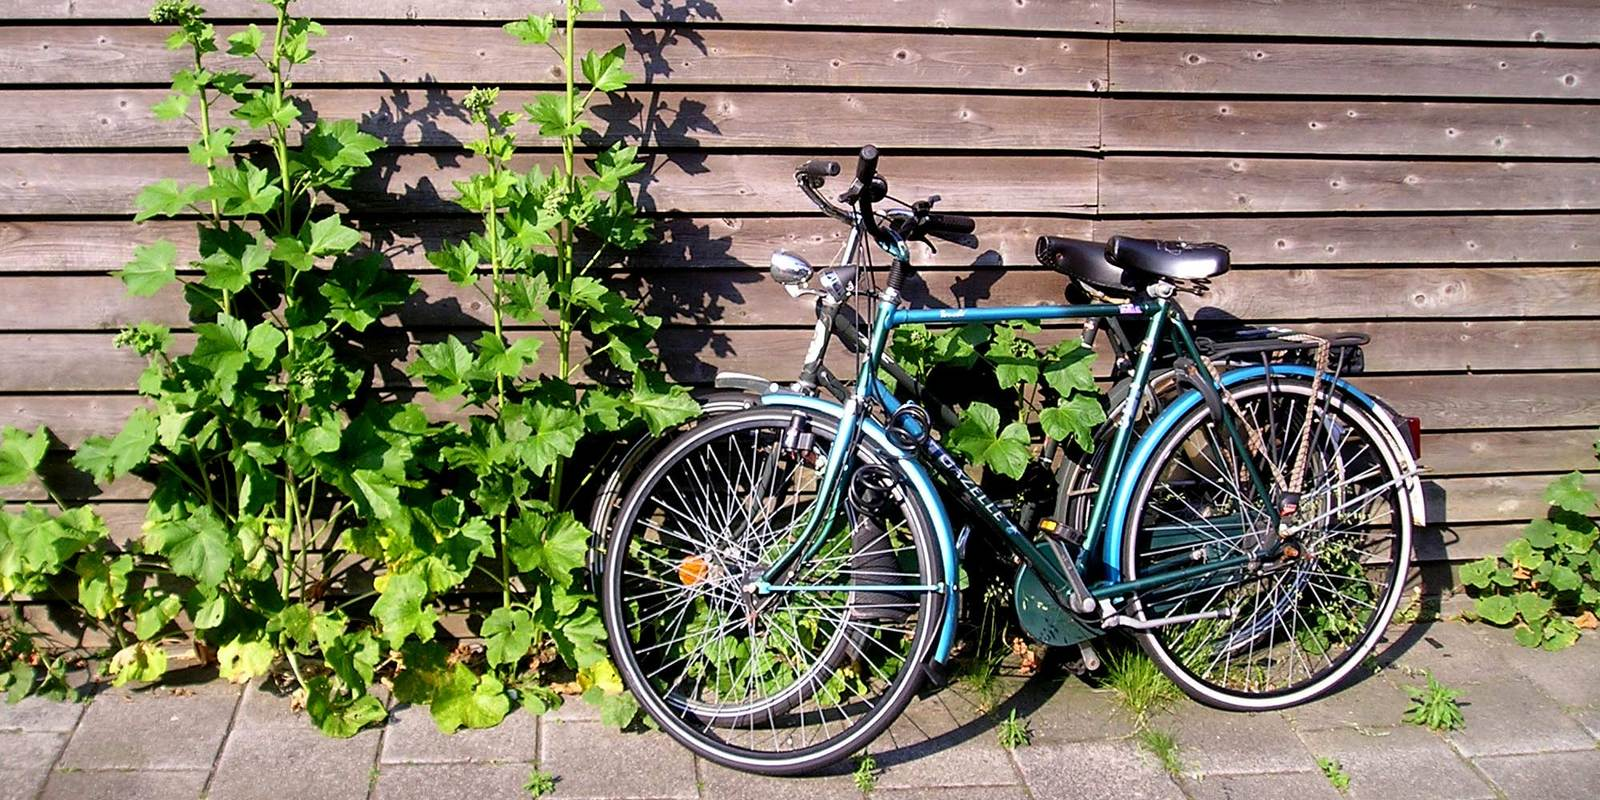Bicycle: (1, 18, 1594, 772)
